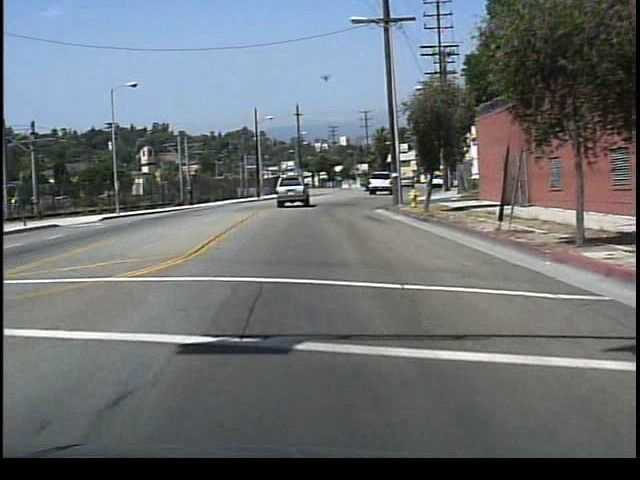person: (184, 180, 200, 206)
